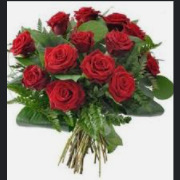RedRose: (45, 80, 83, 116), (80, 49, 118, 81), (42, 45, 83, 72), (8, 28, 39, 60), (106, 31, 135, 59), (110, 72, 133, 104), (18, 63, 45, 88), (73, 3, 98, 26), (67, 31, 98, 49), (143, 52, 162, 80), (48, 11, 71, 34), (104, 10, 126, 30), (125, 21, 145, 41)
